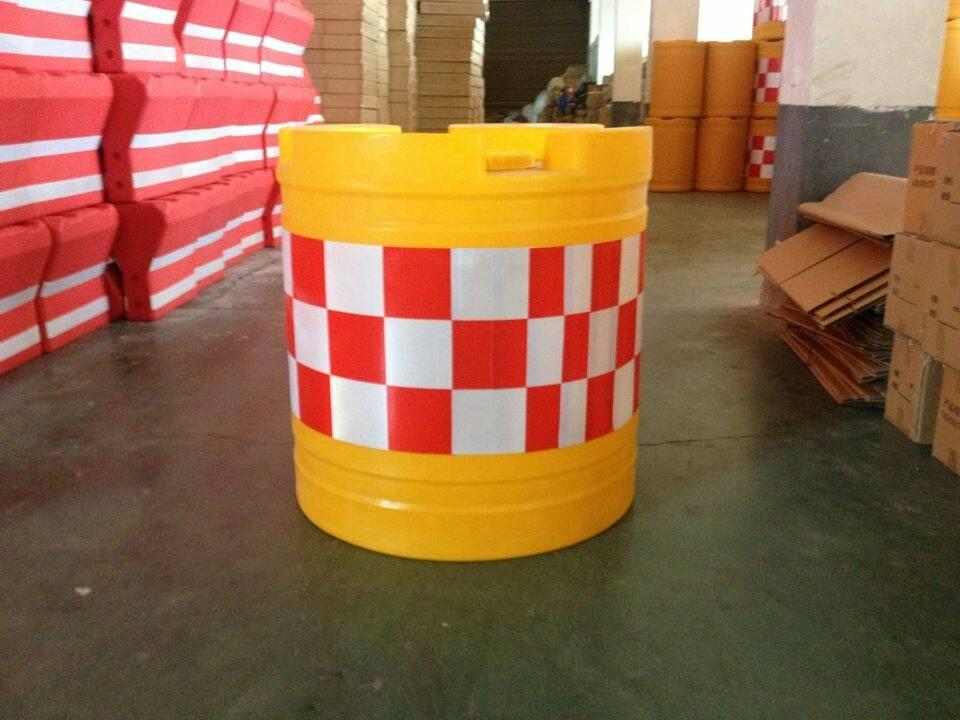sign: (262, 94, 655, 561)
